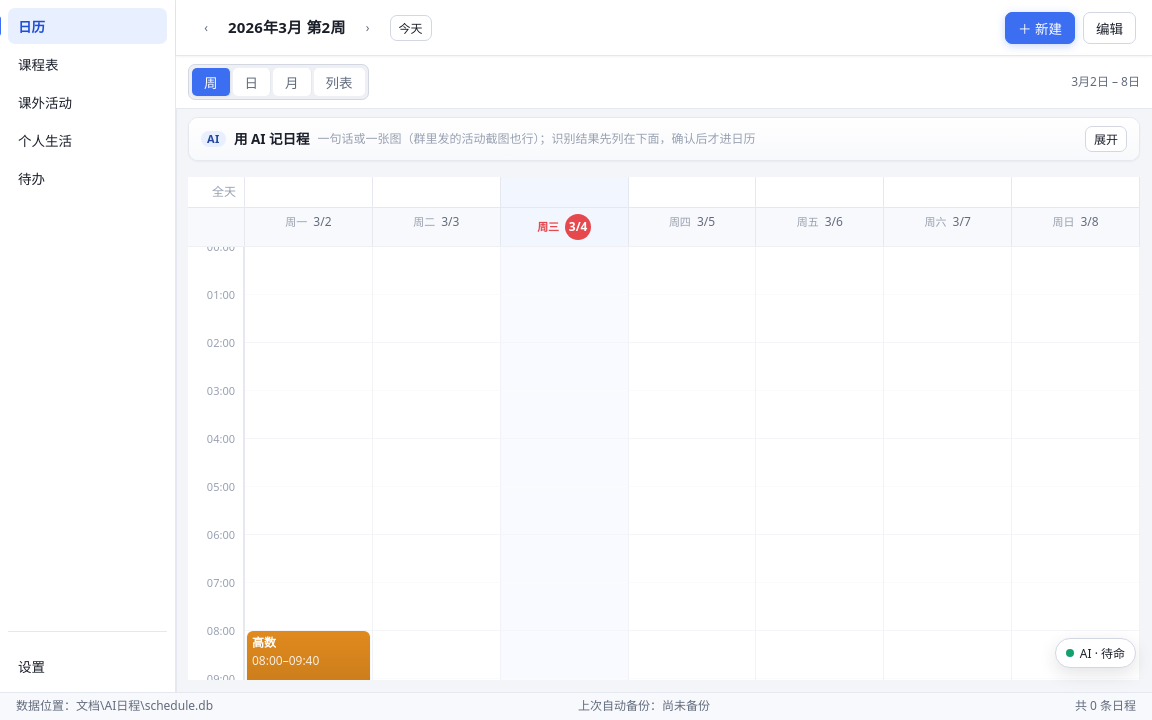
Test: 拖动后可以撤销 › 提示条也能手动关闭
The image size is (1152, 720).
Expected: the button with test id "block-e1" is shown, [247,631,370,680]
Click the button "＋ 新建": {"x": 1040, "y": 28} [1005,12,1075,44]
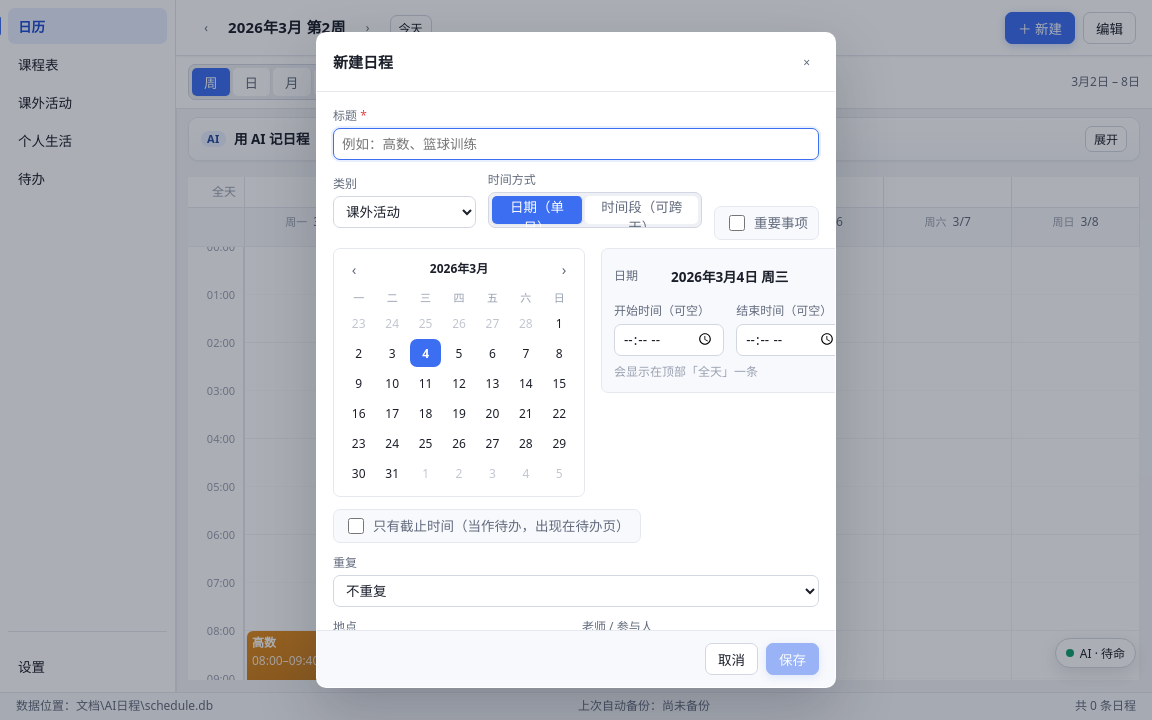
In the field labelled "标题": {"x": 576, "y": 144} [333,128,819,160], type "临时"
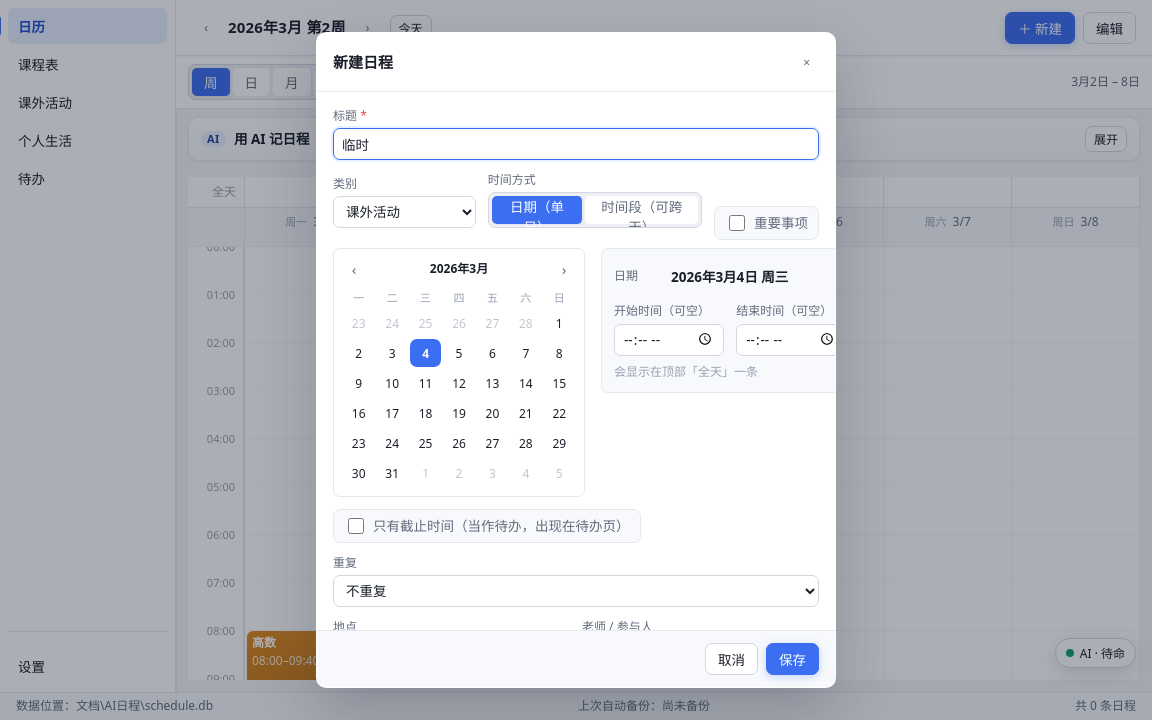
Click the button "保存": {"x": 792, "y": 659} [766,643,819,675]
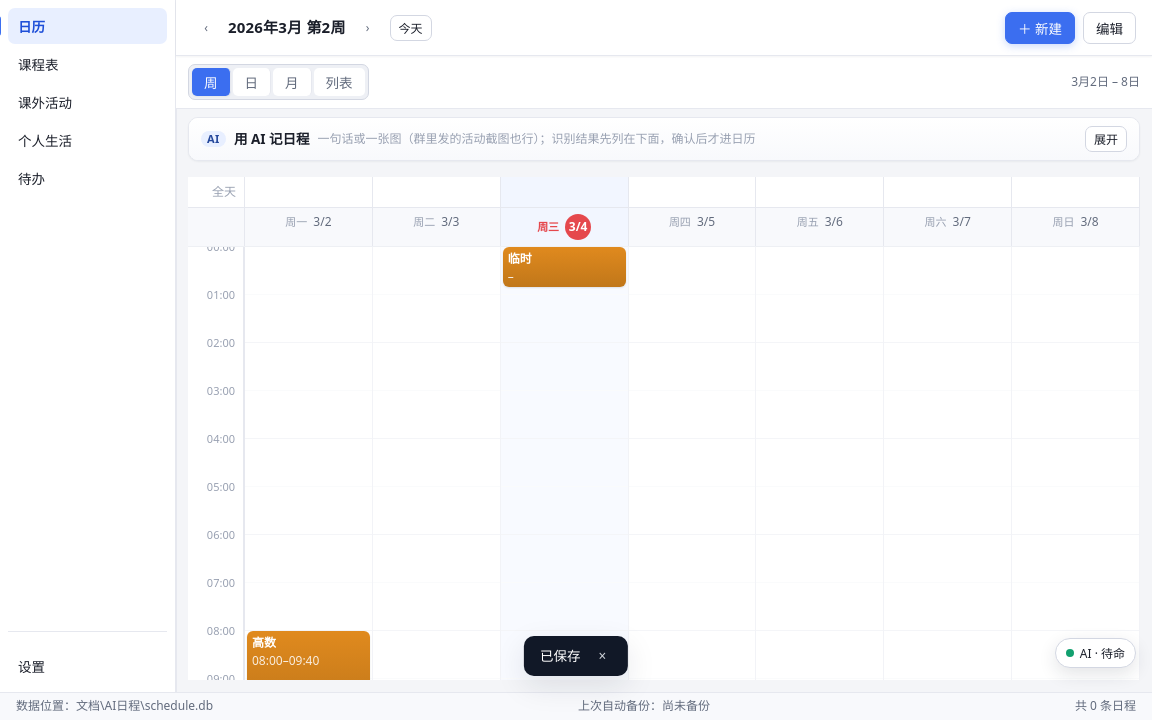
Expected: the text "已保存" is shown, [540,647,580,665]
Click the button named "关闭提示": {"x": 602, "y": 656} [592,646,612,666]
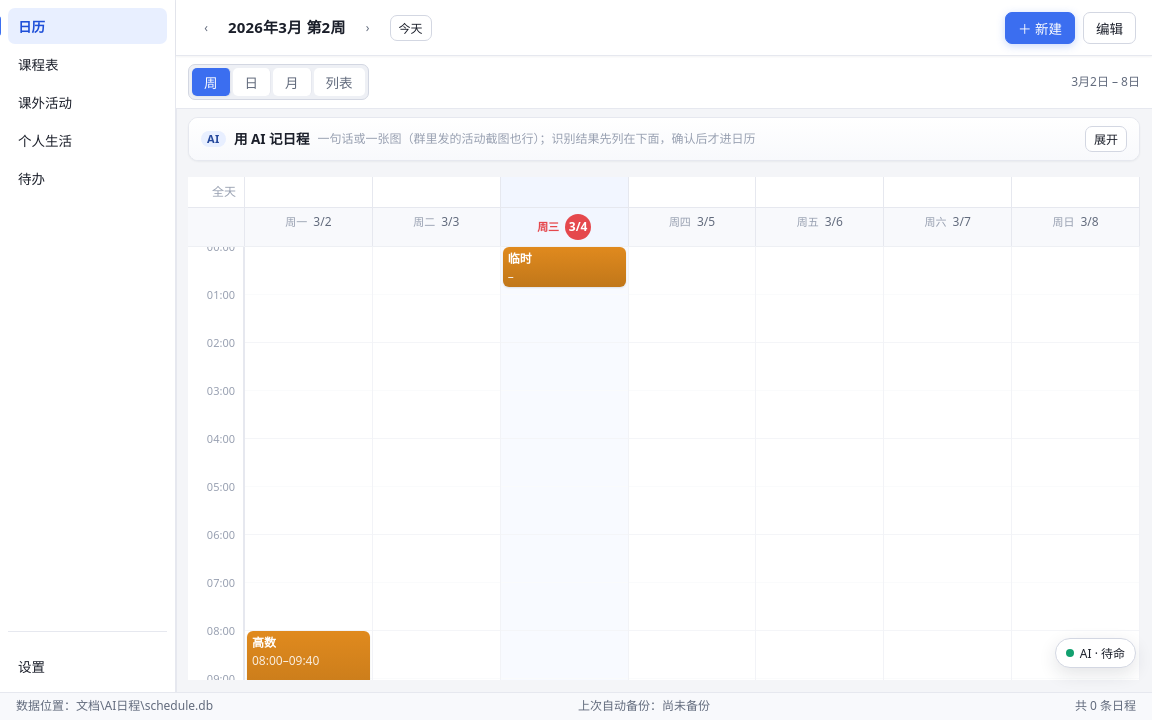
Expected: the text "已保存" is gone
